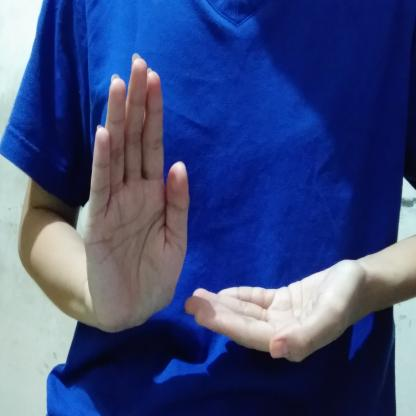hello: (74, 48, 377, 371)
